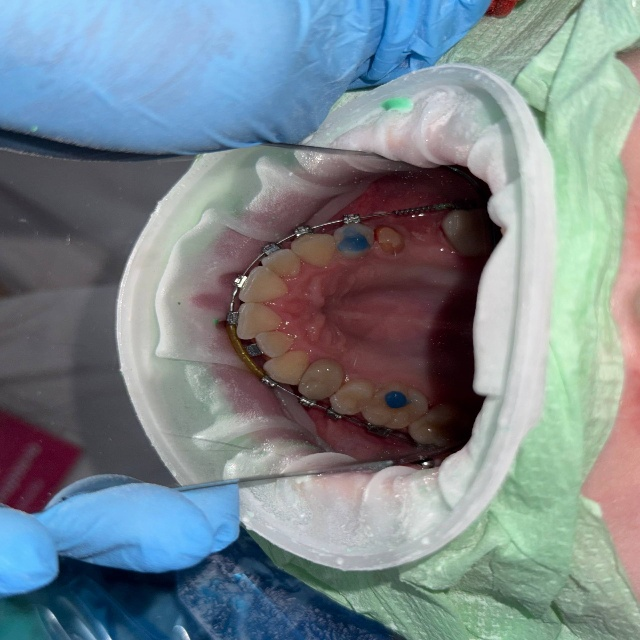clean_tooth: (478, 238, 516, 340), (447, 276, 481, 303)
plaque: (148, 0, 639, 144), (247, 479, 639, 639), (566, 136, 639, 156)
